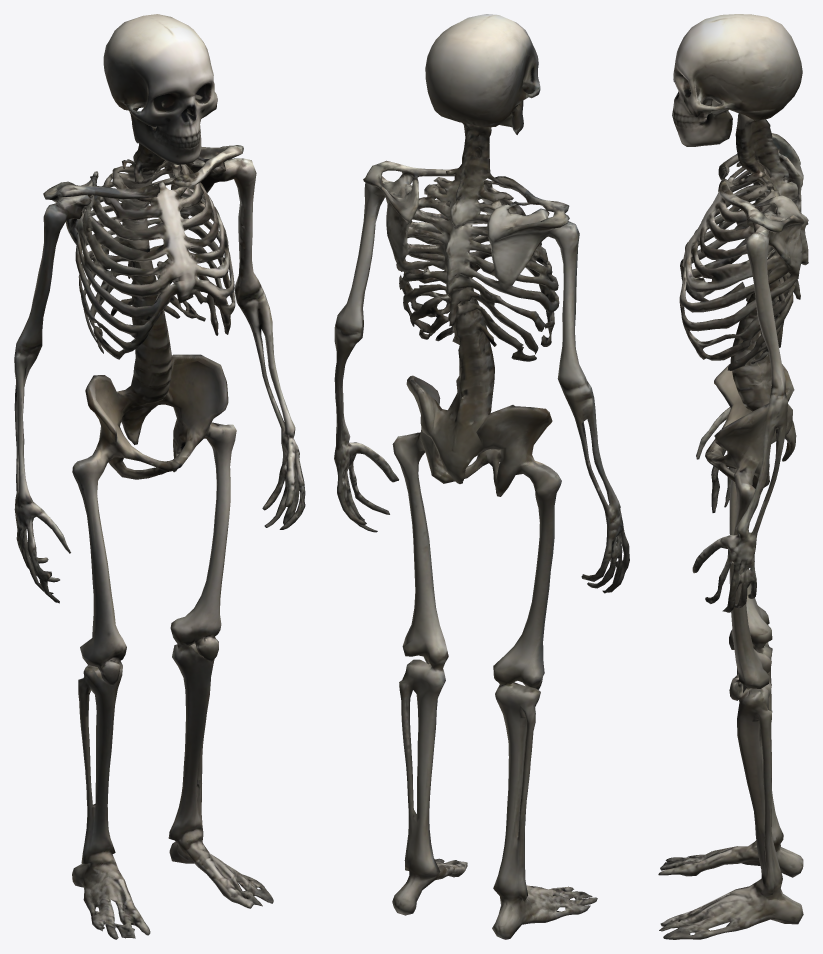
File: I_want_a_skeleton_of__0512121748_texture.fbx
The picture shows the model from 3 angles, left to right: view 1: azimuth 30°, elevation 25°; view 2: azimuth 150°, elevation 25°; view 3: azimuth 270°, elevation 25°; orthographic projection.
Visible parts, largest first — view 1: Mesh1; view 2: Mesh1; view 3: Mesh1.
Boxes of the visible parts, x1=… form: Mesh1: x1=14, y1=14, x2=305, y2=939; Mesh1: x1=334, y1=14, x2=629, y2=939; Mesh1: x1=658, y1=14, x2=808, y2=939.
Size of the model in its own units: 66.51 by 200 by 30.88.
Materials: 1 (1 with a texture image).
